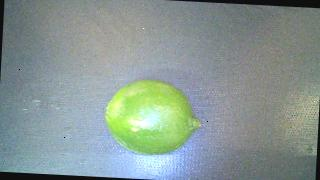EXPORTACION: (103, 79, 202, 158)
